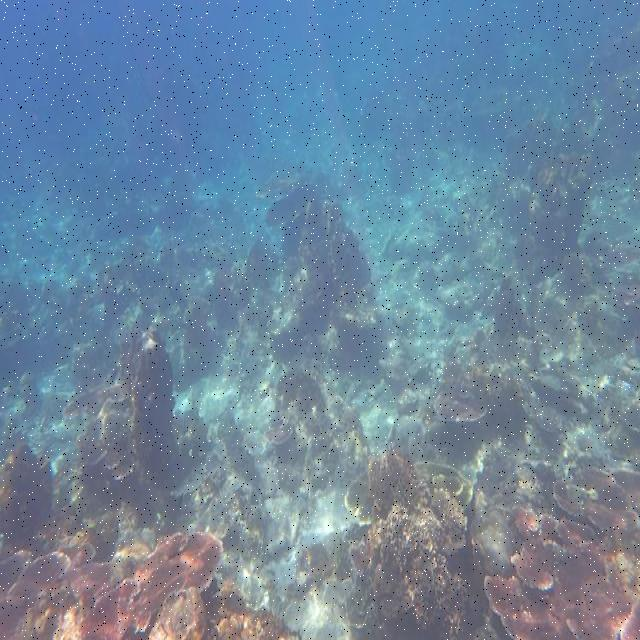sea-floor: (0, 336, 376, 564), (299, 457, 639, 639), (0, 519, 302, 639), (261, 188, 371, 343)
